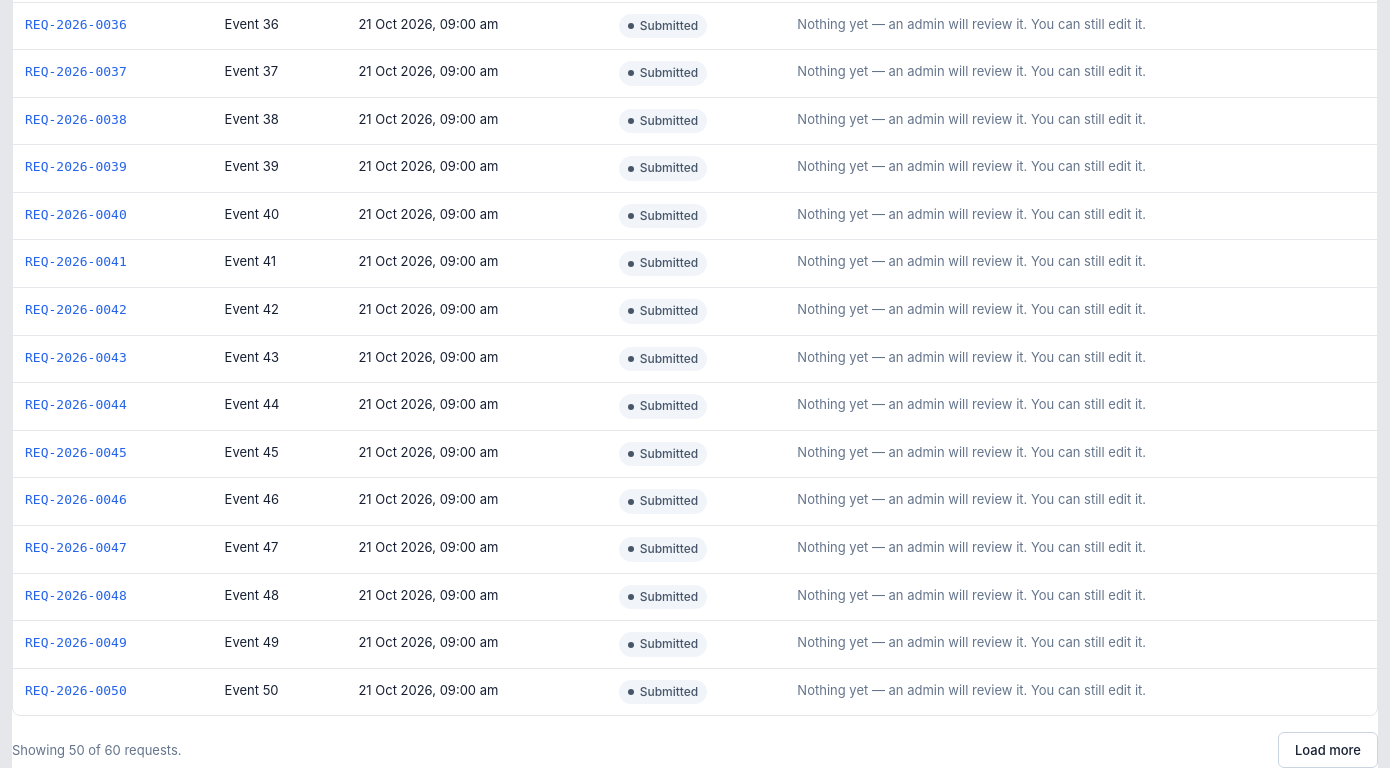
Test: MyRequestsPage — server-side search and paging › shows 'Showing N of total' and loads more via next_offset
(page scrolled)
Expected: the text "Showing 50 of 60 requests." is shown, [12,740,182,760]
Click the button "Load more" at (1328, 750), box [1278,732,1378,767]
(page scrolled)
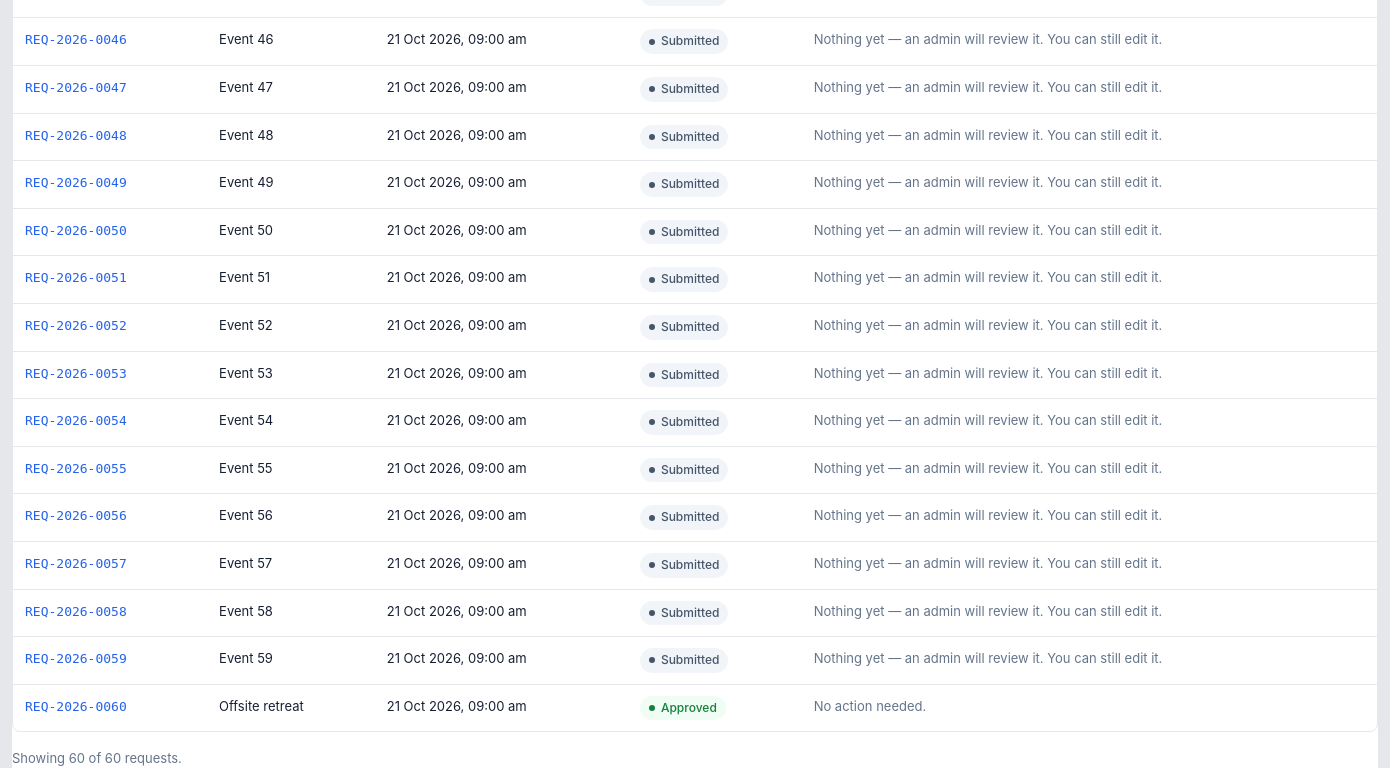
Expected: the text "Showing 60 of 60 requests." is shown, [12,748,182,767]
Expected: the button "Load more" is gone
